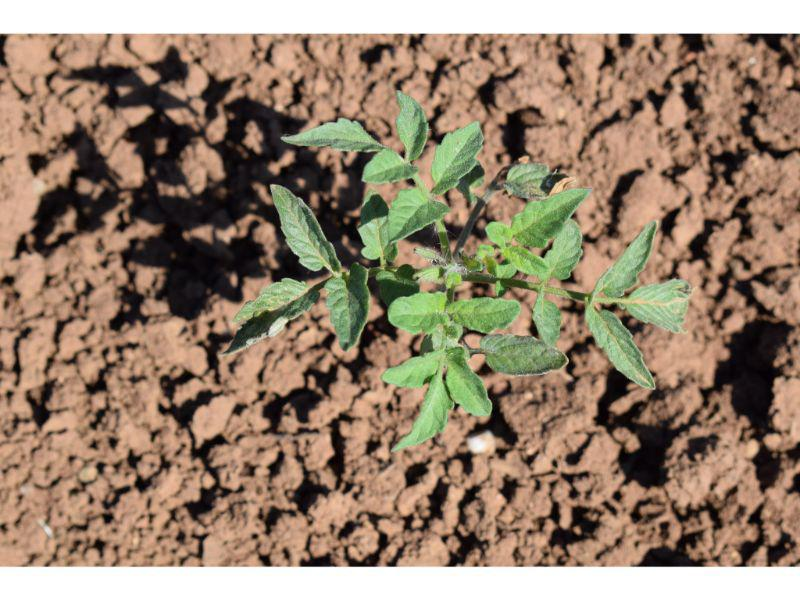tomato: (222, 87, 692, 453)
